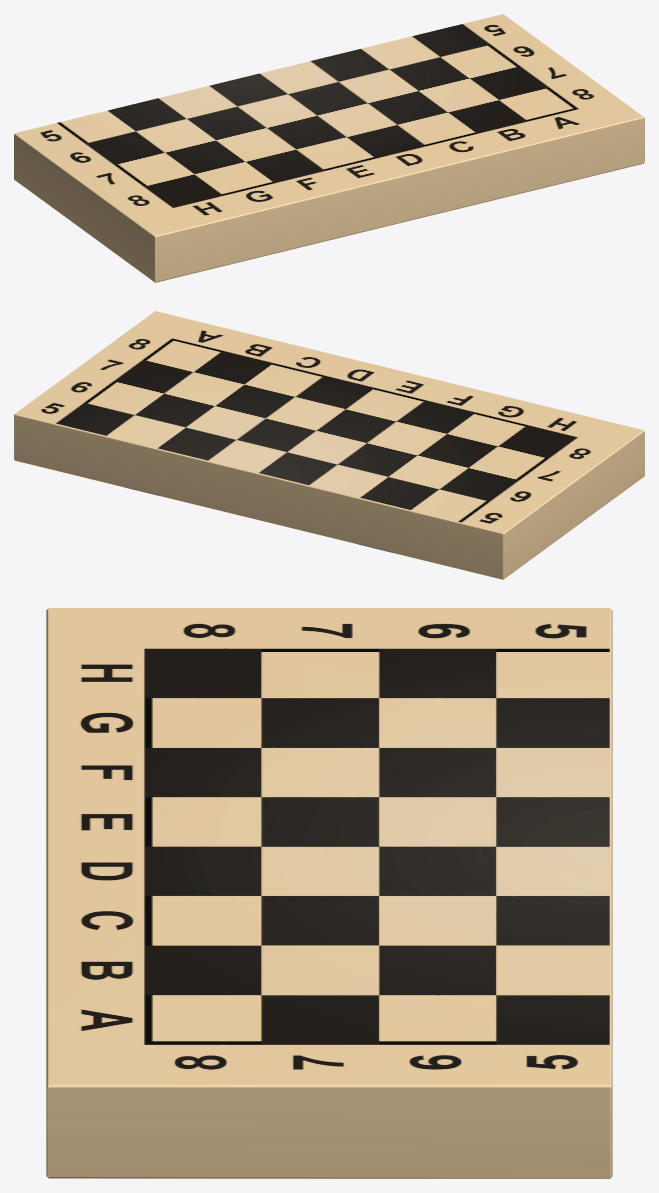
The model's file is Chesspad_02.fbx.
3 views of the same model, one above another, from view 1: azimuth 30°, elevation 25°; view 2: azimuth 150°, elevation 25°; view 3: azimuth 270°, elevation 25° (orthographic). The views are drawn at different scales.
Visible parts, largest first — view 1: Chesspad_02; view 2: Chesspad_02; view 3: Chesspad_02.
Part boxes in pixels (x1,y1,x2,y2): Chesspad_02: (14, 14, 644, 282); Chesspad_02: (14, 311, 644, 579); Chesspad_02: (46, 608, 612, 1178).
Bounding box in the file's own units: 48.13 × 4.43 × 24.06.
